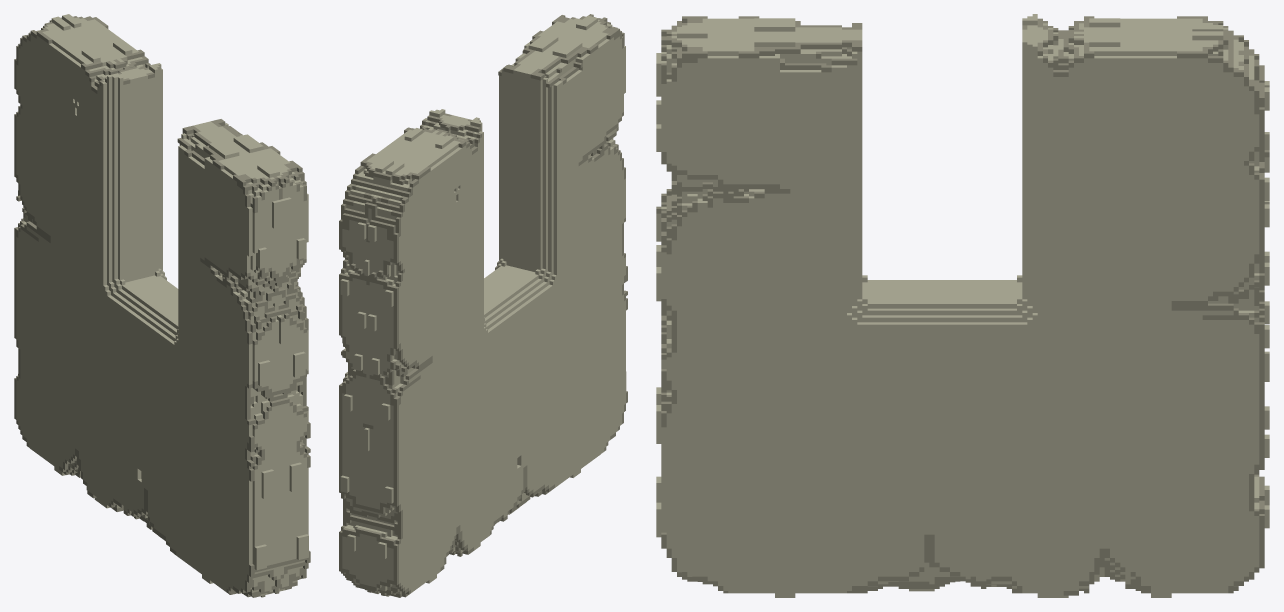
File: forest1.3-7.obj
3 views of the same model, side by side, from view 1: azimuth 30°, elevation 25°; view 2: azimuth 150°, elevation 25°; view 3: azimuth 270°, elevation 25° (orthographic). The views are drawn at different scales.
Size of the model in its own units: 1.7 by 11.8 by 11.9.
Materials: 1 (1 with a texture image).
